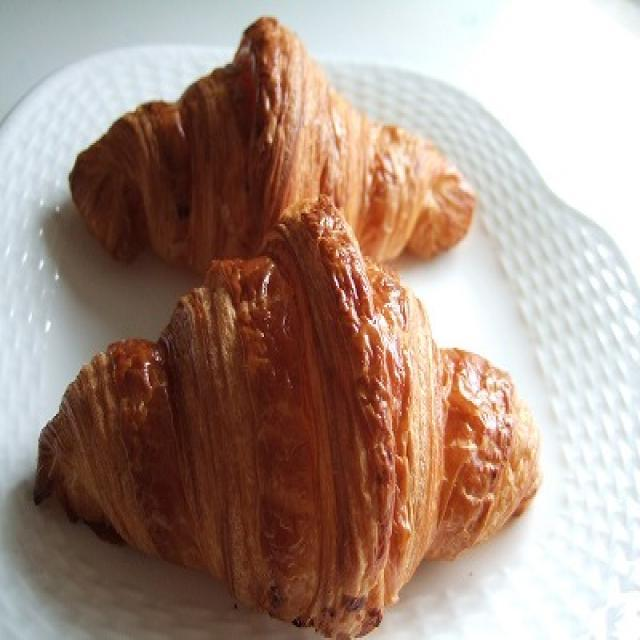Croissant: (18, 192, 551, 634), (61, 3, 494, 271)
